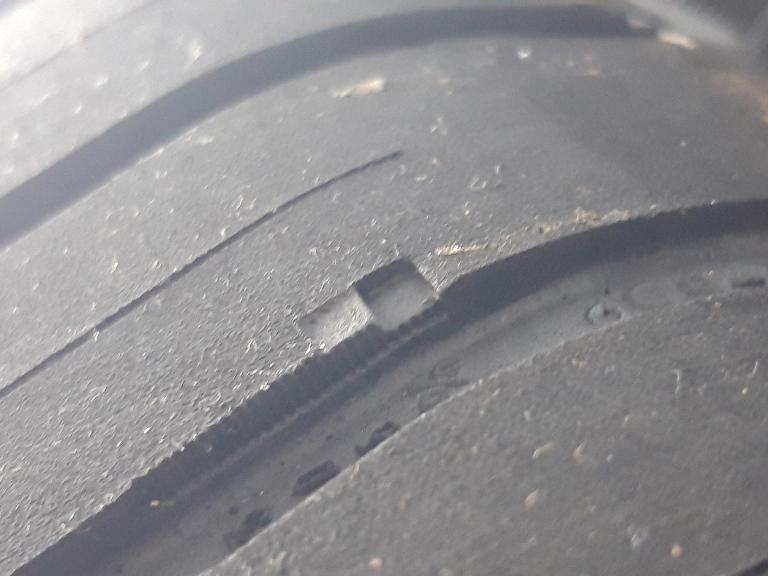temoin:25: (284, 249, 461, 383)
